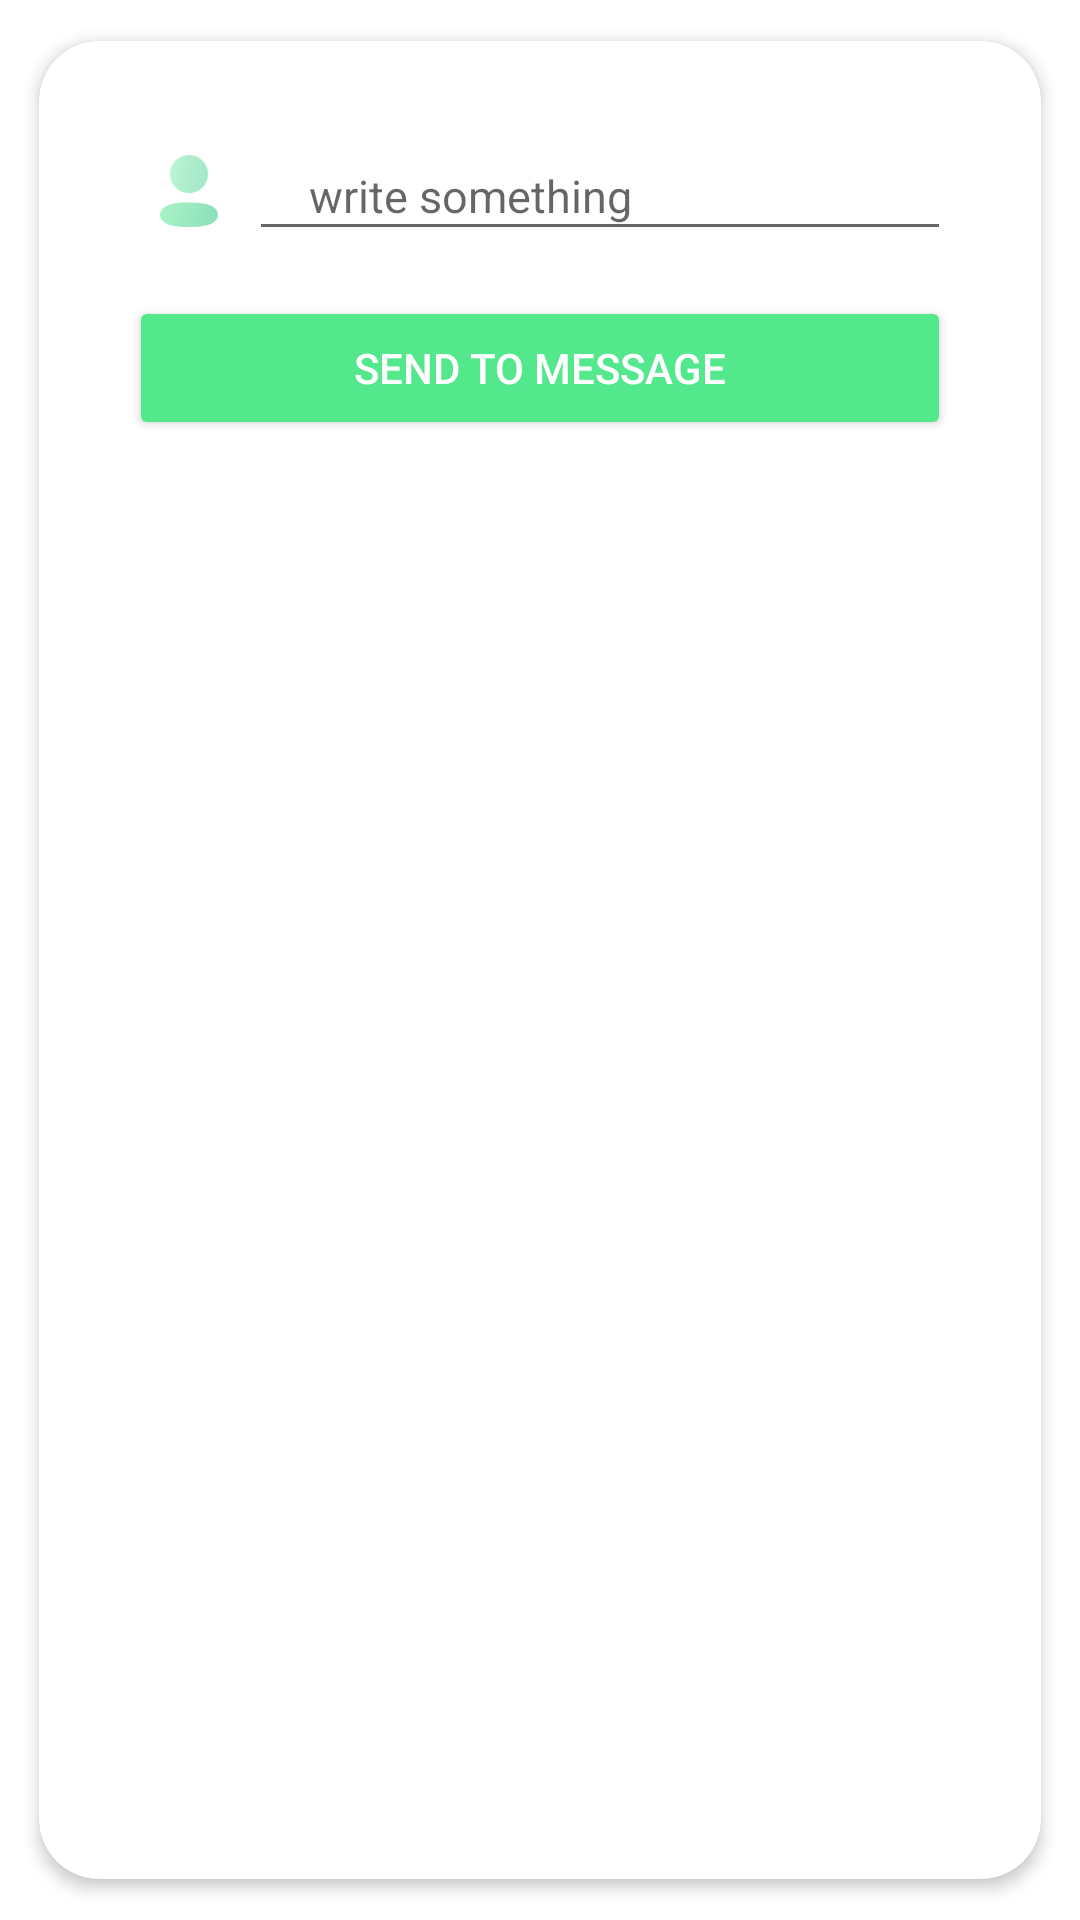

Named icons in this screenshot (1080x1920) and their bounding boxes, (x1, y1, x2, y2):
profile: (160, 155, 218, 227)
